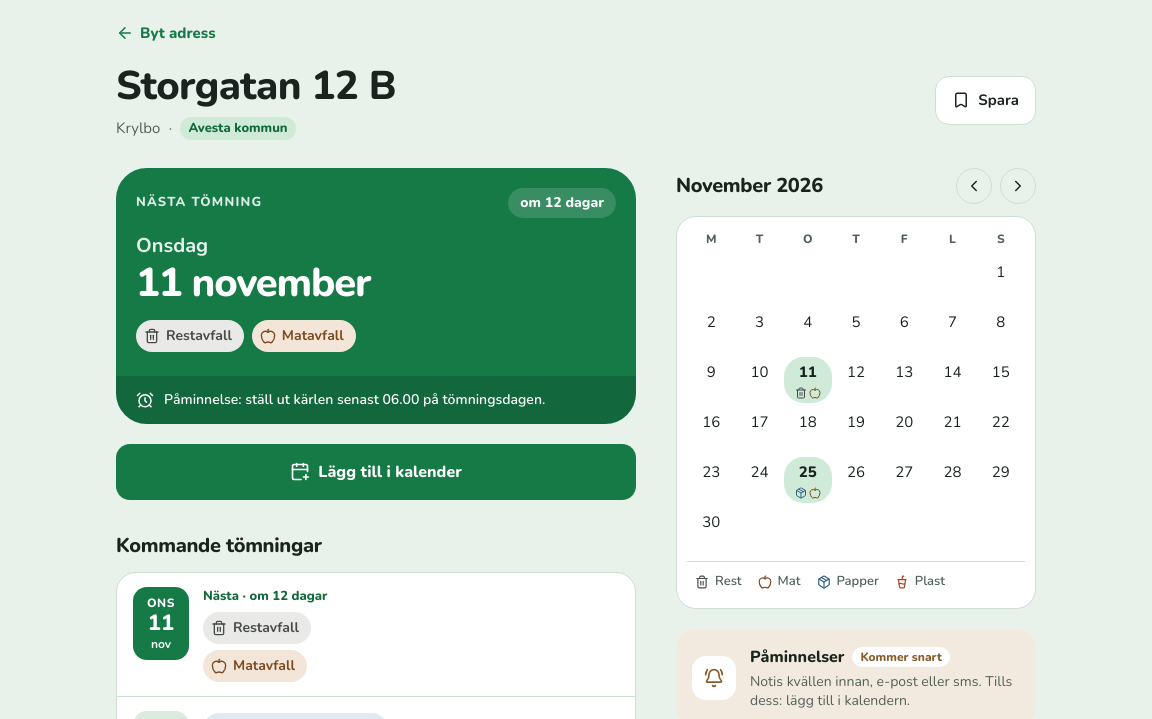
Test: ResultPage › öppnar kalenderarket och spara-arket
The width and height of the screenshot is (1152, 719).
Click the button "Lägg till i kalender".
click(376, 472)  # box [116,444,636,500]
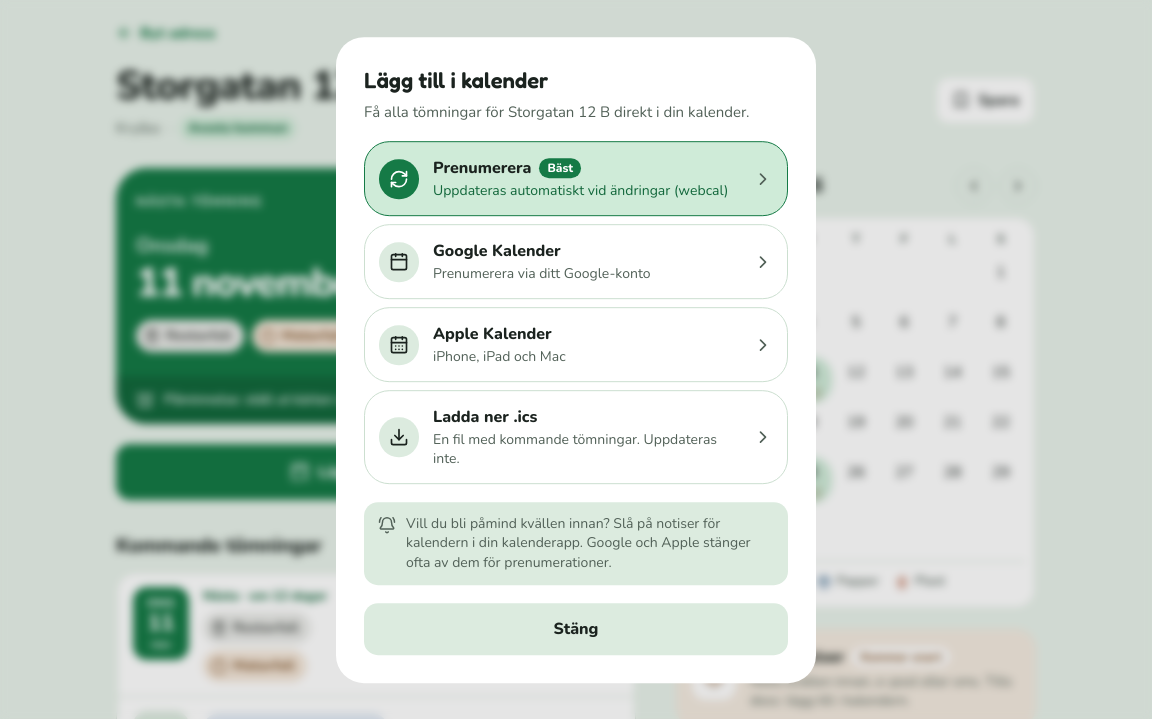
expect the dialog "Lägg till i kalender" is shown: met, box [336,37,816,683]
Click the button "Stäng".
click(576, 629)  # box [364,603,788,655]
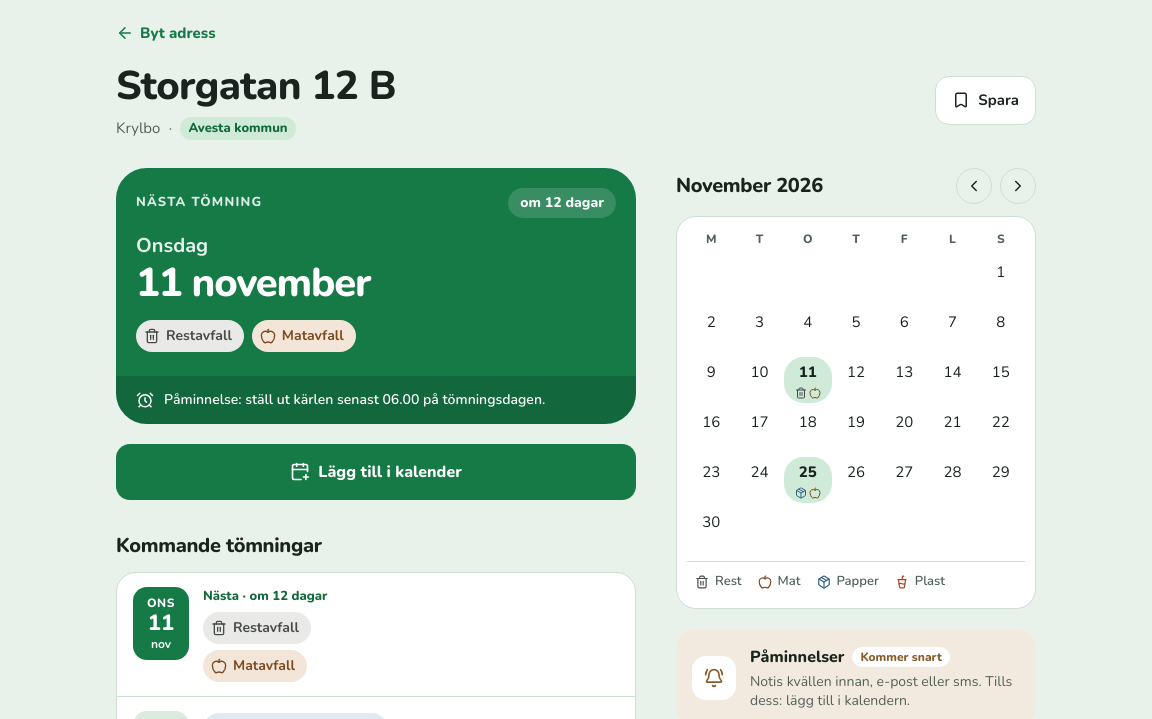
Click the button "Spara".
click(986, 100)  # box [935,76,1036,124]
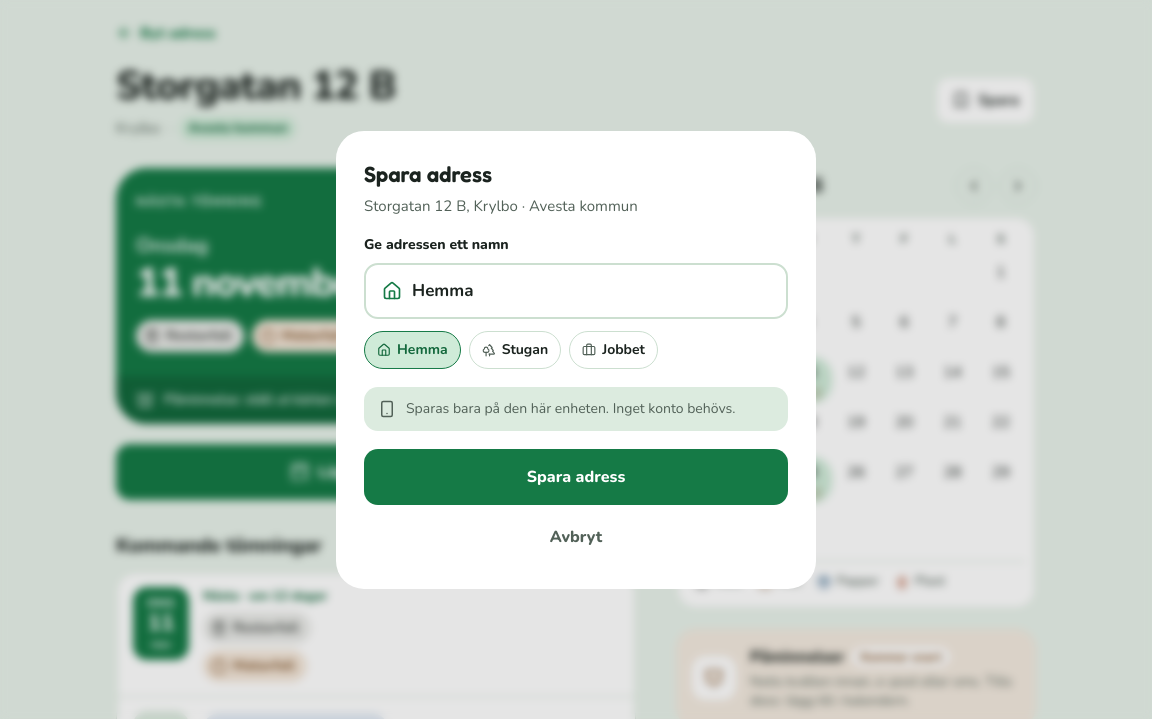
expect the dialog "Spara adress" is shown: met, box [336,131,816,589]
